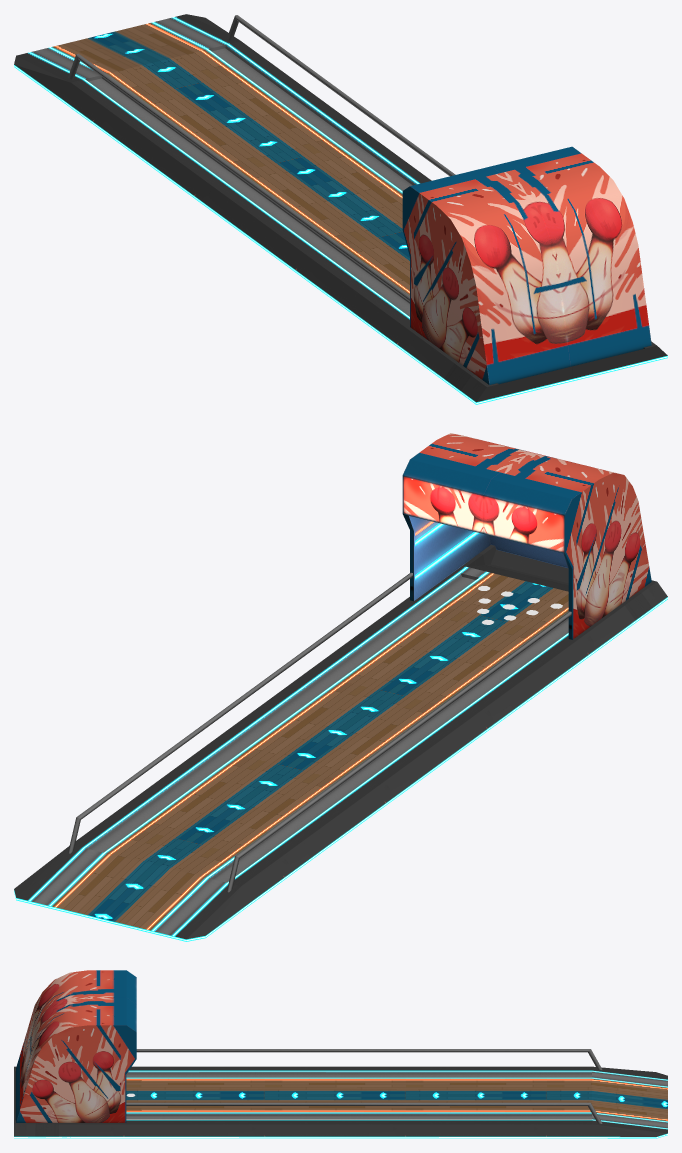
Rendered from BowlingAlley.fbx.
3 views of the same model, one above another, from view 1: azimuth 30°, elevation 25°; view 2: azimuth 150°, elevation 25°; view 3: azimuth 270°, elevation 25° (orthographic). The views are drawn at different scales.
Visible parts, largest first — view 1: BowlingAlley; view 2: BowlingAlley; view 3: BowlingAlley.
Boxes of the visible parts, x1,y1,x2,y2 form: BowlingAlley: (14,14,667,404); BowlingAlley: (14,433,667,941); BowlingAlley: (14,970,667,1138).
Size of the model in its own units: 426 by 332 by 1813.
1 material, 1 textured.
